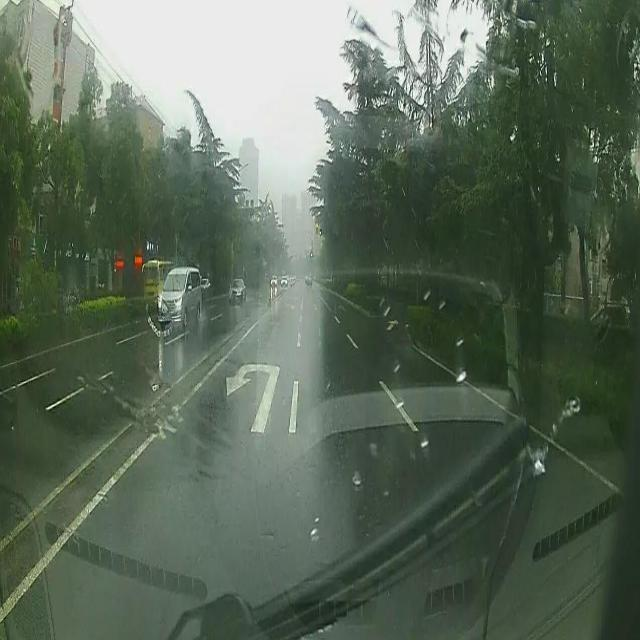car: (156, 268, 202, 324), (230, 278, 247, 301), (269, 276, 277, 286)
